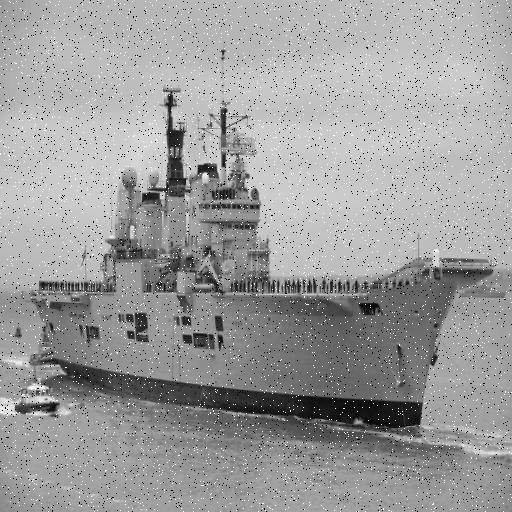Portanaves: (23, 25, 505, 440)
